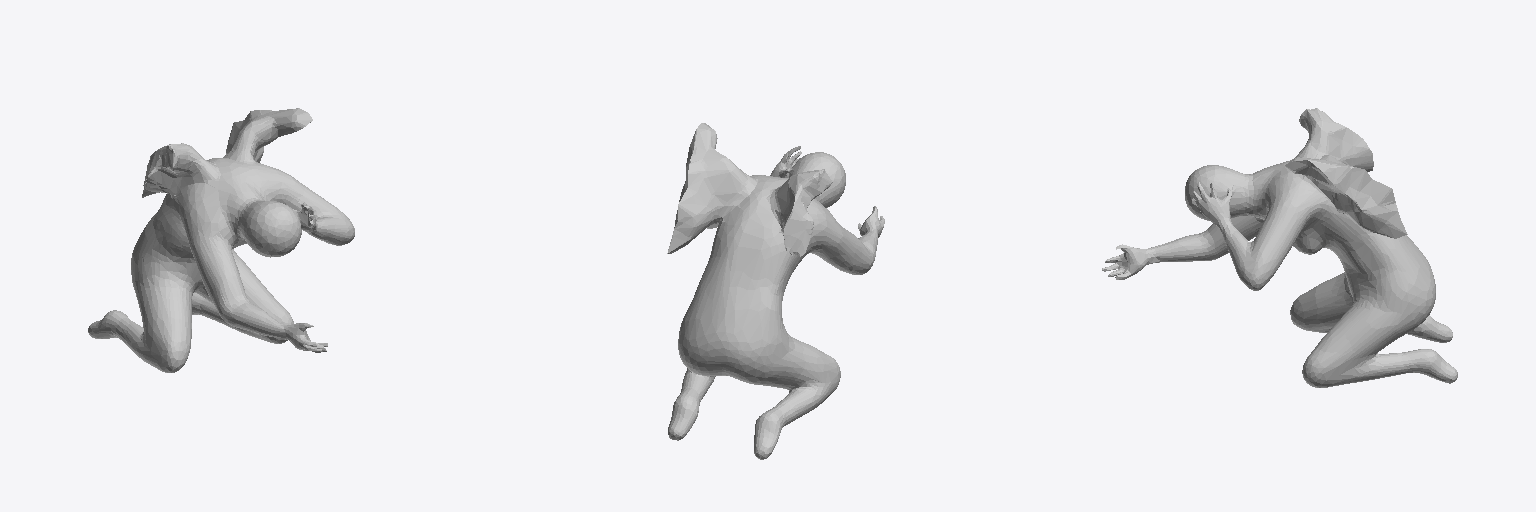
The model's file is Make em stop winged.OBJ.
3 views of the same model, side by side, from view 1: azimuth 30°, elevation 25°; view 2: azimuth 150°, elevation 25°; view 3: azimuth 270°, elevation 25° (orthographic).
Visible parts, largest first — view 1: Group3505; view 2: Group3505; view 3: Group3505.
Boxes of the visible parts, x1,y1,x2,y2 form: Group3505: [88, 108, 354, 372]; Group3505: [667, 123, 884, 459]; Group3505: [1102, 108, 1457, 387].
Size of the model in its own units: 1.09 by 1.52 by 1.98.